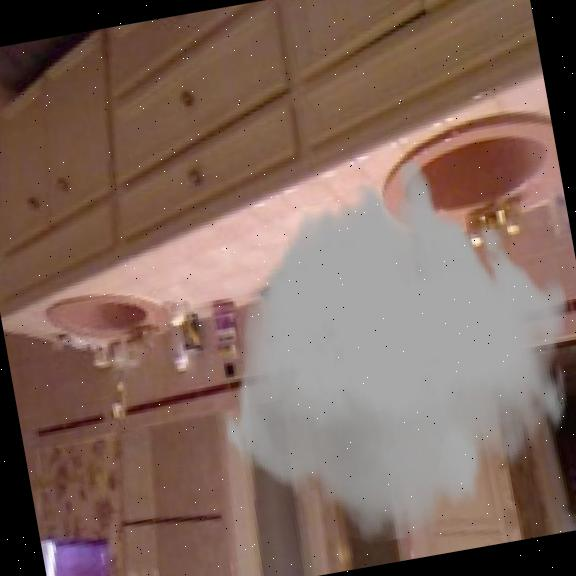smoke: (183, 139, 576, 565)
